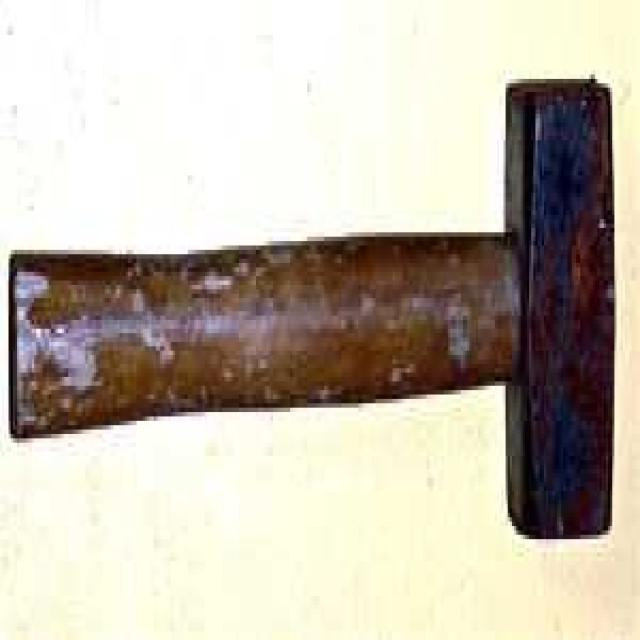hammer: (7, 74, 615, 546)
